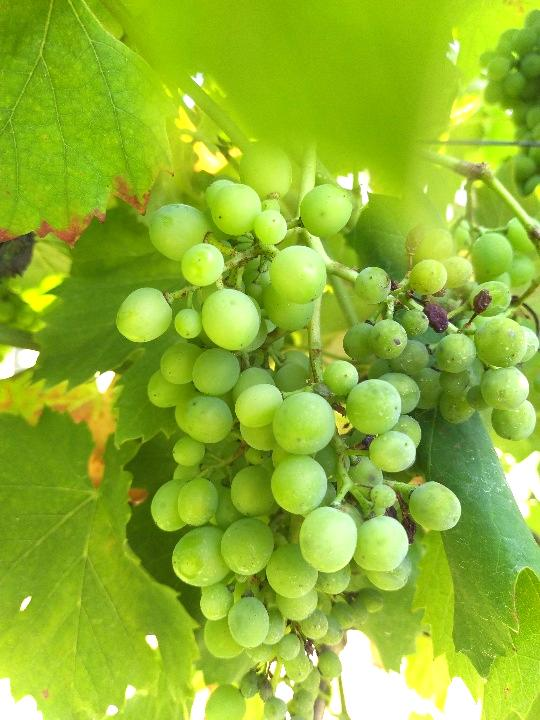grape: (109, 132, 533, 668)
